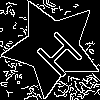H: (28, 22, 85, 80)
